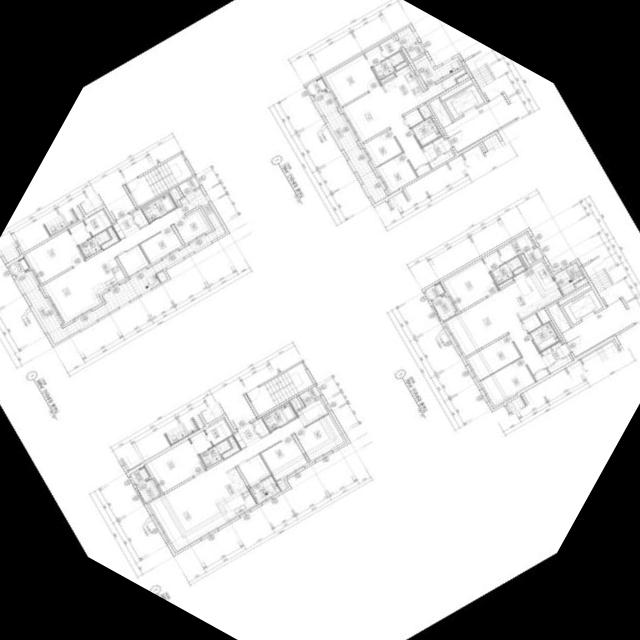background: (0, 0, 640, 640)
space_balconi: (15, 188, 226, 345), (313, 90, 387, 204), (411, 54, 463, 87), (553, 264, 583, 295), (249, 476, 280, 504), (431, 294, 456, 321), (135, 479, 159, 503)
space_bedroom: (145, 439, 205, 493), (25, 230, 84, 284), (324, 55, 380, 107), (442, 260, 498, 312), (480, 358, 535, 406), (466, 335, 520, 381), (294, 415, 344, 462), (260, 436, 307, 481), (139, 227, 182, 264), (377, 153, 416, 193), (363, 130, 402, 167), (173, 211, 209, 244)
space_dressroom: (482, 234, 533, 272), (68, 210, 111, 245), (189, 419, 232, 454), (364, 38, 400, 66)
space_elevator: (444, 85, 484, 120), (562, 290, 602, 325)
space_elevator_hall: (561, 300, 634, 357), (443, 95, 515, 152)
space_front: (540, 341, 571, 367), (422, 136, 452, 162), (232, 423, 260, 450), (111, 214, 139, 240)
space_kitchen: (383, 65, 465, 115), (503, 261, 562, 320), (204, 467, 256, 522), (84, 258, 125, 295)
space_living_room: (148, 400, 327, 551), (43, 208, 183, 323), (445, 289, 547, 375), (342, 85, 428, 171)
space_other: (238, 455, 270, 487), (117, 245, 149, 276), (395, 26, 424, 60), (557, 284, 591, 306), (428, 98, 452, 129), (439, 79, 472, 101), (547, 303, 571, 333), (429, 151, 454, 169), (547, 356, 572, 374), (298, 386, 320, 406), (100, 227, 118, 250), (178, 177, 199, 196), (221, 437, 239, 459), (403, 109, 423, 128), (522, 314, 541, 333), (252, 418, 269, 438), (522, 248, 542, 265), (132, 209, 148, 228), (533, 369, 549, 382), (415, 164, 430, 177), (418, 105, 431, 120), (291, 397, 302, 410), (170, 188, 181, 201), (380, 74, 394, 84), (156, 271, 167, 283), (394, 61, 407, 71), (498, 279, 512, 288), (513, 266, 525, 276), (456, 74, 468, 83), (574, 279, 586, 288), (276, 480, 285, 491)
space_outdoor_room: (129, 467, 149, 485), (8, 258, 28, 276), (424, 283, 444, 301)
space_staircase: (125, 154, 192, 207), (246, 363, 313, 416)
space_toilet: (262, 403, 297, 432), (142, 194, 176, 223), (78, 230, 110, 259), (490, 256, 522, 285), (529, 322, 559, 352), (199, 440, 231, 468), (372, 52, 404, 80), (411, 118, 441, 147)
